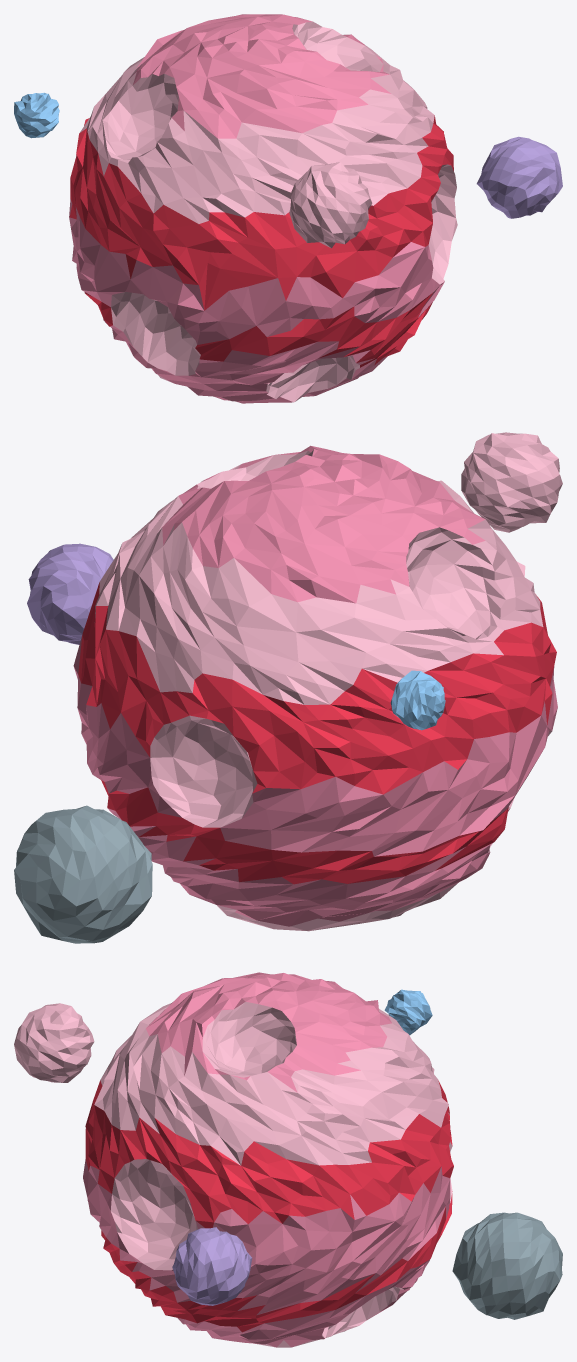
Rendered from Planet_37.glb.
3 renders of one model, top to bottom at view 1: azimuth 30°, elevation 25°; view 2: azimuth 150°, elevation 25°; view 3: azimuth 270°, elevation 25°, orthographic. The views are drawn at different scales.
Visible parts, largest first — view 1: Planet_37; view 2: Planet_37; view 3: Planet_37.
Part boxes in pixels (x1,y1,x2,y2): Planet_37: [14, 14, 562, 403]; Planet_37: [14, 432, 562, 943]; Planet_37: [14, 972, 562, 1347].
Size of the model in its own units: 25.7 by 20.18 by 29.18.
1 material, 1 textured.
